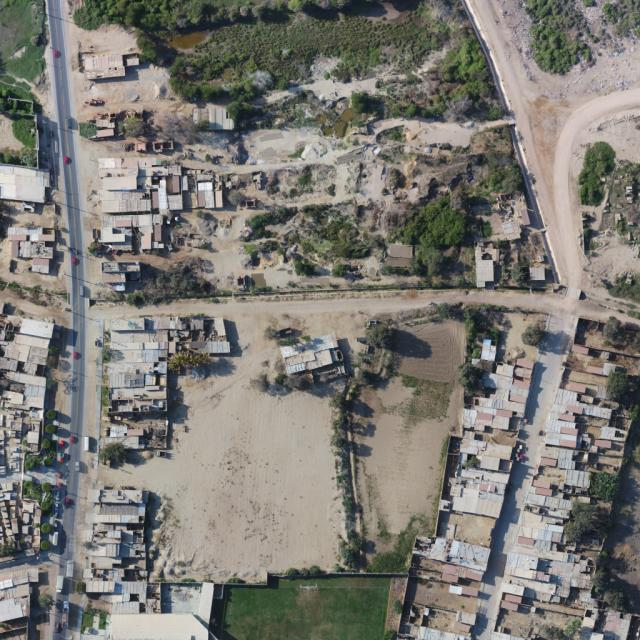building: (0, 302, 55, 555), (97, 156, 225, 252), (500, 489, 599, 608), (82, 482, 149, 594), (442, 429, 518, 523), (105, 315, 174, 418), (461, 360, 533, 436), (412, 531, 491, 573), (279, 332, 345, 379), (168, 315, 232, 355), (6, 227, 56, 273), (0, 571, 30, 639), (100, 425, 168, 449), (159, 582, 202, 615), (82, 53, 125, 79), (192, 107, 234, 130), (579, 607, 604, 639), (196, 582, 214, 625), (441, 563, 484, 581), (574, 401, 612, 420), (545, 431, 578, 449), (552, 388, 578, 408), (120, 581, 147, 600), (600, 425, 627, 442), (565, 471, 590, 488), (547, 419, 576, 433), (454, 610, 477, 627), (110, 601, 140, 614), (448, 585, 479, 597), (489, 631, 530, 639), (540, 445, 560, 460), (145, 599, 160, 614), (572, 450, 588, 462), (557, 412, 576, 422), (95, 118, 114, 128), (557, 458, 574, 469), (558, 449, 575, 459), (540, 457, 558, 466), (594, 439, 612, 448), (504, 594, 522, 603), (96, 129, 114, 138), (27, 569, 39, 582), (504, 594, 521, 603), (580, 436, 591, 449), (126, 57, 139, 67), (552, 404, 566, 413), (566, 406, 583, 413), (549, 411, 559, 422), (590, 446, 598, 453)
dryland: (87, 279, 373, 600), (147, 64, 526, 306), (347, 317, 465, 562), (71, 61, 200, 150), (20, 20, 68, 257), (0, 202, 68, 291), (0, 287, 75, 327), (69, 24, 139, 55)
greenland: (75, 0, 360, 64), (283, 194, 387, 288), (393, 191, 477, 268), (521, 0, 593, 79), (460, 122, 527, 204), (128, 254, 214, 315), (450, 294, 515, 362), (0, 75, 43, 166), (571, 137, 621, 211), (246, 203, 303, 242), (405, 240, 452, 287), (560, 499, 598, 546), (72, 0, 106, 30), (588, 470, 619, 502), (366, 323, 398, 349), (602, 316, 627, 344), (606, 371, 629, 401), (352, 366, 379, 391), (450, 187, 470, 212), (351, 92, 369, 114), (126, 294, 144, 306)
metalled_road: (53, 509, 78, 640), (619, 314, 640, 324)
unmetalled_road: (516, 70, 640, 291), (88, 288, 621, 322)
